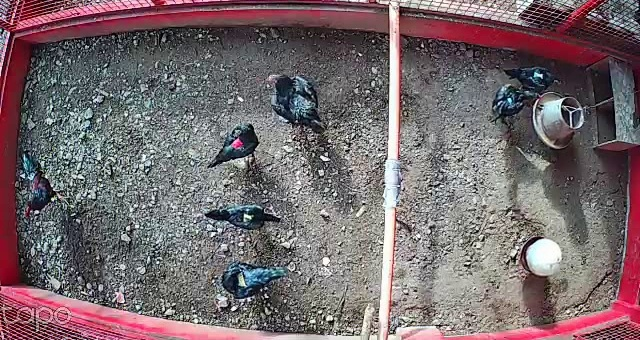Chicken: (263, 72, 326, 133), (217, 258, 286, 300), (206, 120, 261, 170), (485, 82, 546, 124), (201, 202, 284, 230), (499, 62, 567, 93)
Rooster: (11, 142, 74, 222)
Saddle_Color_Blue: (507, 97, 514, 103)
Saddle_Color_Red: (232, 137, 244, 149)
Saddle_Color_Yellow: (243, 213, 253, 223)
